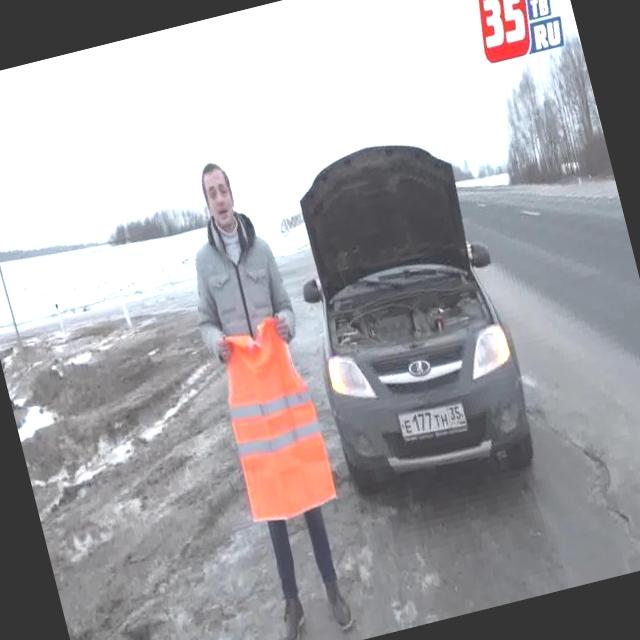vest: (206, 313, 344, 532)
